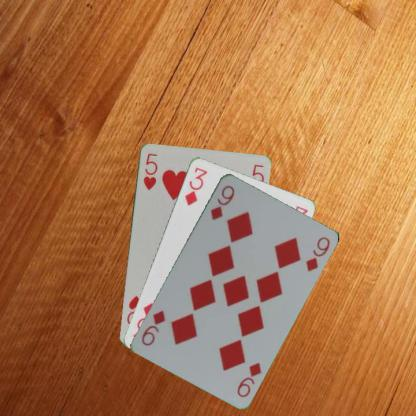3d: (182, 164, 209, 208)
5h: (140, 150, 159, 191)
9d: (234, 359, 263, 399), (207, 182, 236, 221)
